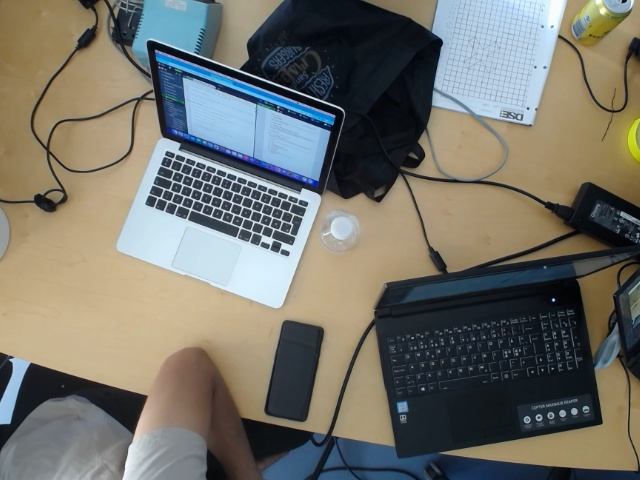orange: (628, 114, 640, 164)
white: (0, 194, 11, 273)
